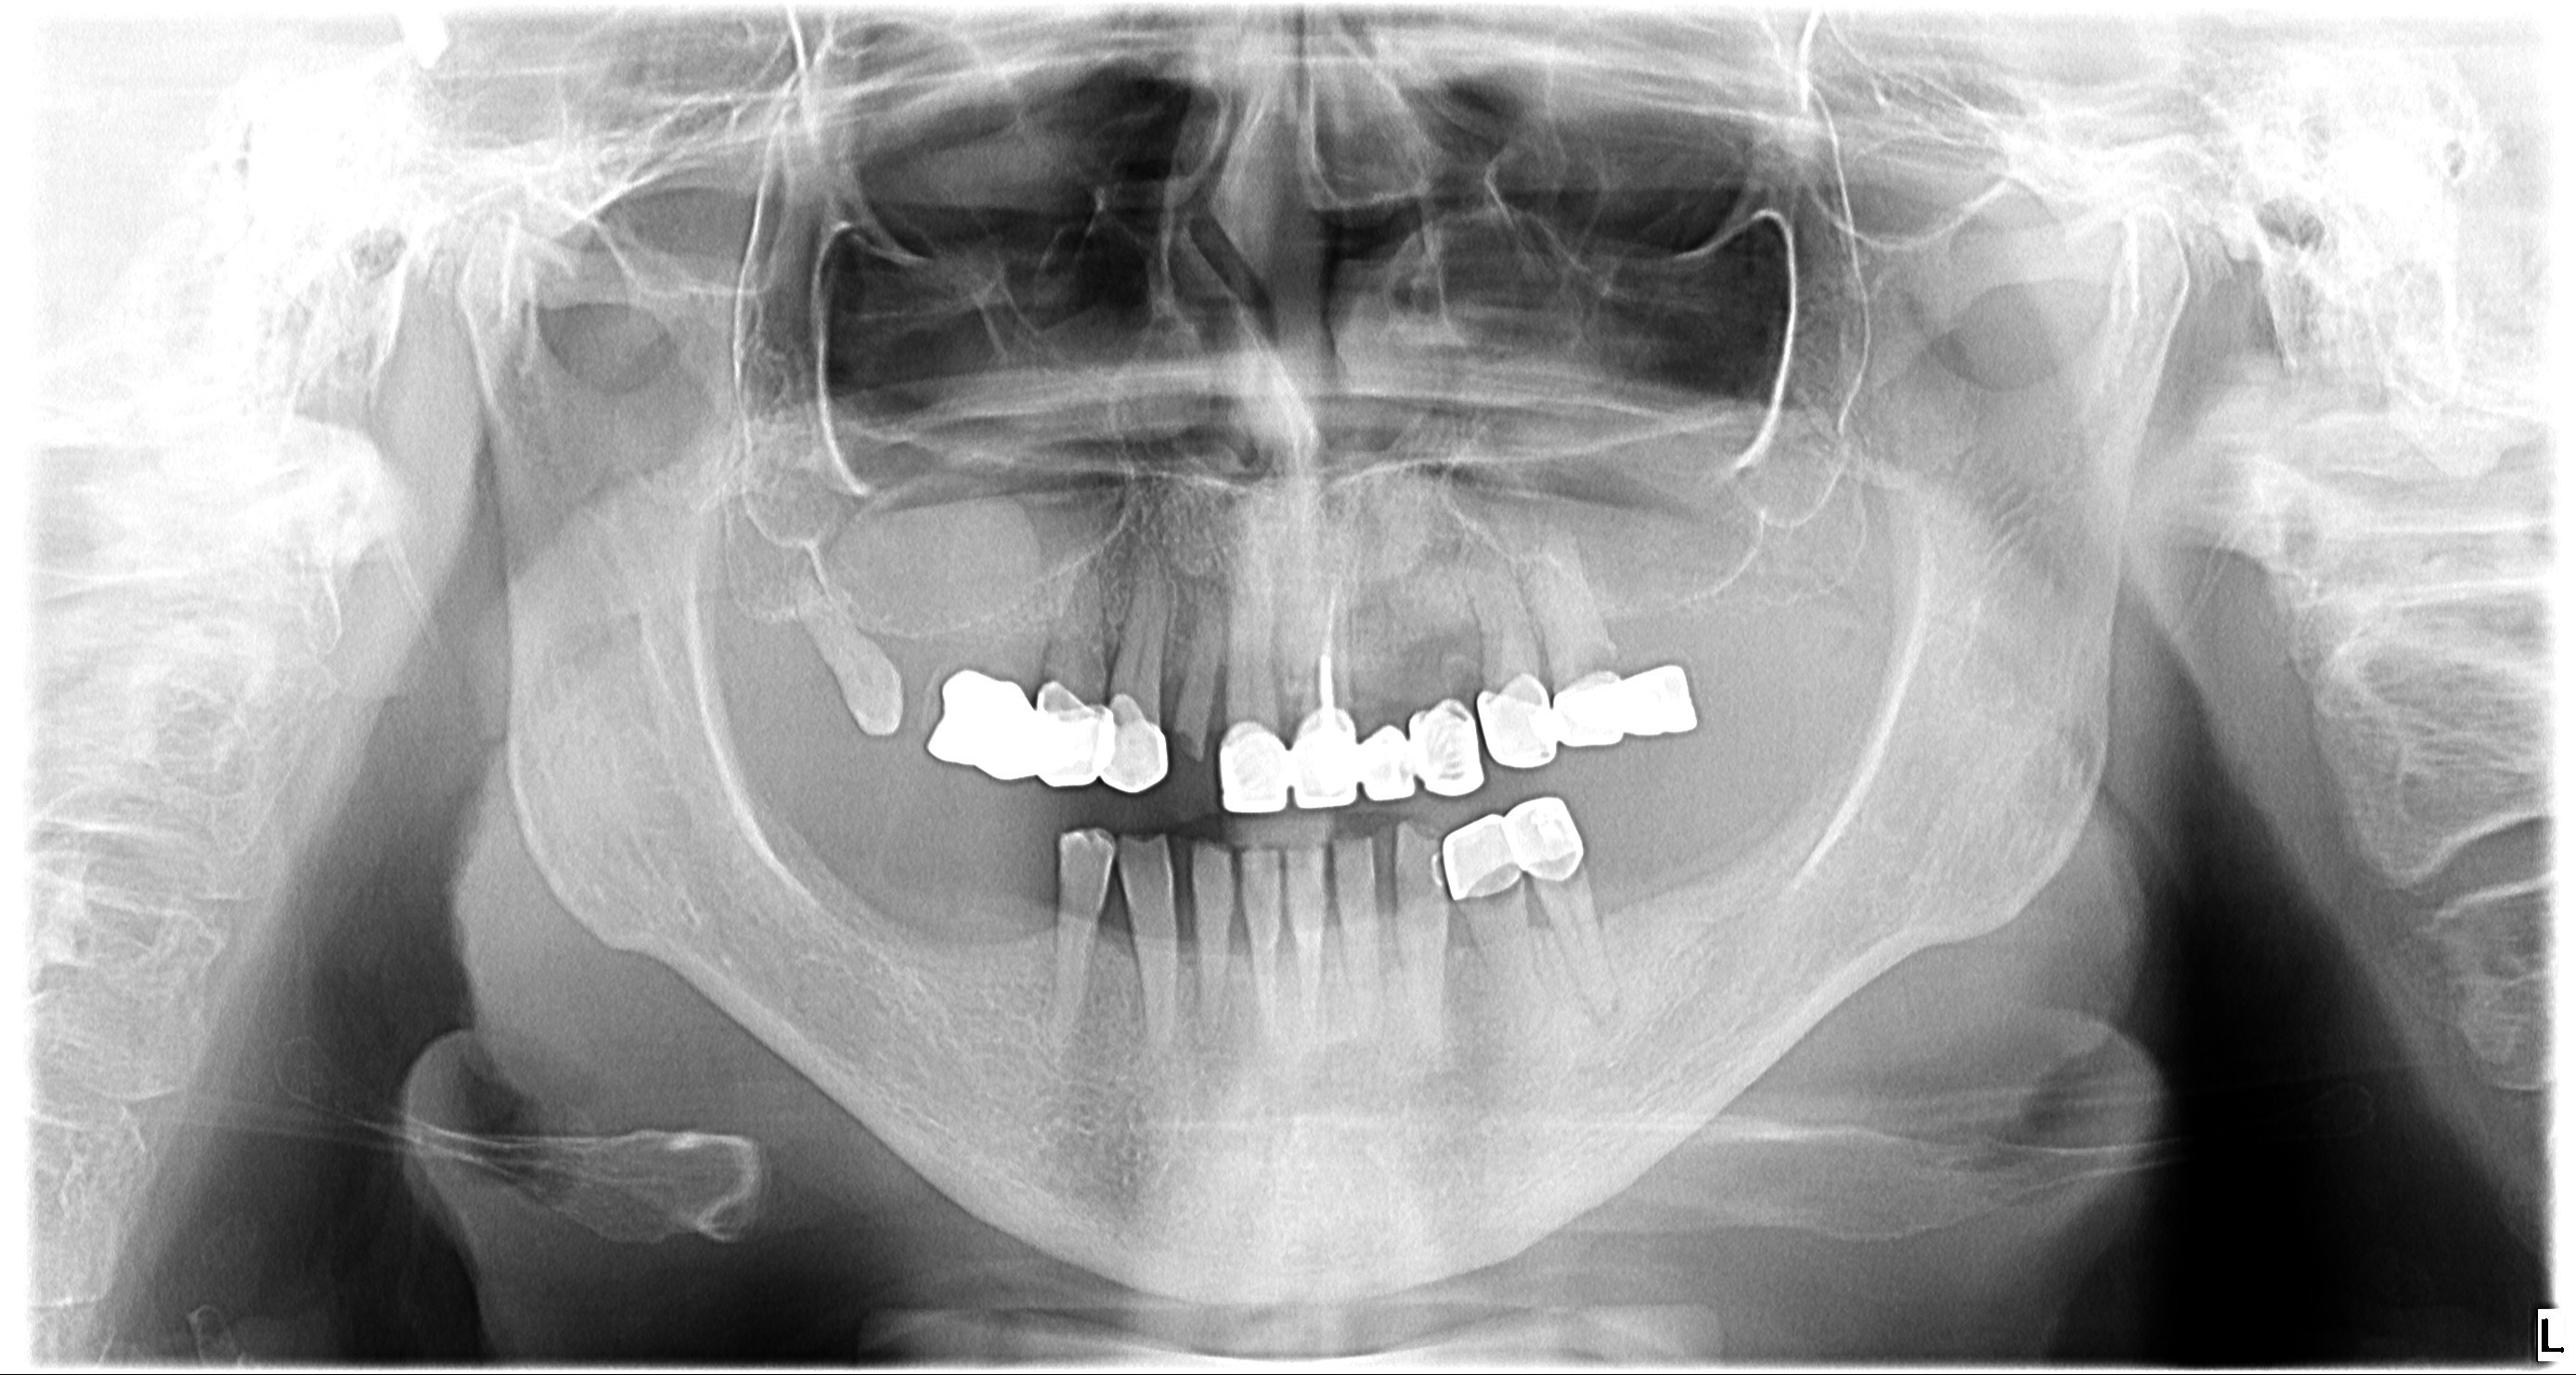BON: (796, 579, 906, 741)
CAR: (1566, 646, 1617, 675), (1423, 854, 1450, 895)
END: (1305, 574, 1360, 714)
IMT: (1094, 893, 1138, 964), (1009, 636, 1048, 699), (1452, 629, 1486, 700), (1269, 661, 1303, 724), (1351, 671, 1383, 733), (1588, 888, 1637, 922), (1525, 883, 1554, 927), (1225, 910, 1252, 956), (1443, 908, 1472, 947), (1176, 905, 1199, 949), (1370, 881, 1399, 917), (1276, 912, 1297, 952), (1603, 618, 1632, 642), (1320, 893, 1337, 932)
OBT: (920, 664, 1170, 792), (1213, 711, 1475, 809), (1474, 671, 1702, 765), (1433, 796, 1598, 900)
ROT: (1167, 579, 1223, 758)
